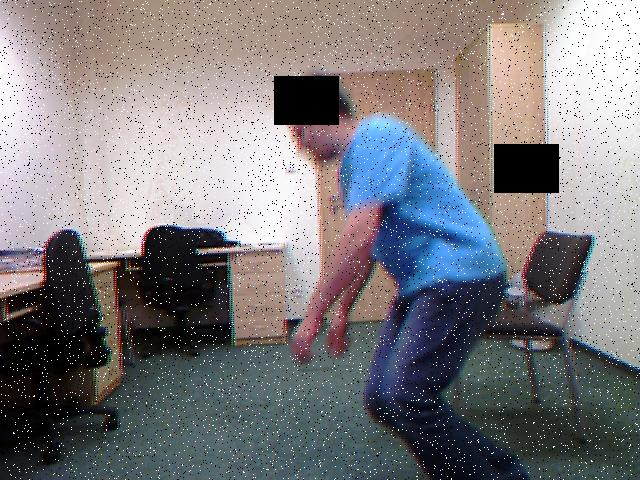near-fall: (267, 54, 538, 480)
